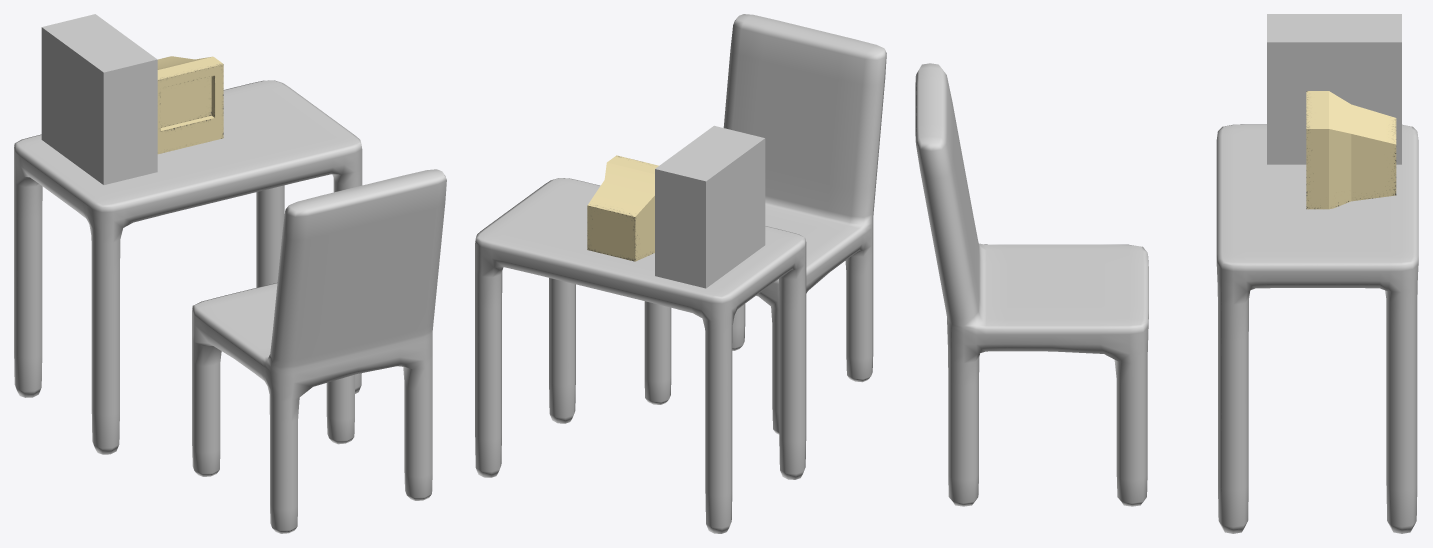
The model's file is computer.glb.
3 views of the same model, side by side, from view 1: azimuth 30°, elevation 25°; view 2: azimuth 150°, elevation 25°; view 3: azimuth 270°, elevation 25° (orthographic). The views are drawn at different scales.
Visible parts, largest first — view 1: Cube.003, Cube.001, Cube.002, Cube; view 2: Cube.001, Cube.003, Cube.002, Cube; view 3: Cube.001, Cube.003, Cube.002, Cube.
Part boxes in pixels (box(x1,y1,x2,y2)): Cube.003: box(192, 169, 446, 533); Cube.001: box(14, 80, 362, 454); Cube.002: box(41, 14, 157, 184); Cube: box(157, 56, 223, 154); Cube.001: box(475, 178, 806, 533); Cube.003: box(644, 14, 886, 434); Cube.002: box(655, 125, 765, 288); Cube: box(587, 155, 658, 261); Cube.001: box(1216, 124, 1418, 533); Cube.003: box(915, 63, 1148, 506); Cube.002: box(1267, 14, 1401, 164); Cube: box(1306, 91, 1396, 209).
Bounding box in the file's own units: 1 × 1.3 × 1.49.
1 material, 1 textured.
